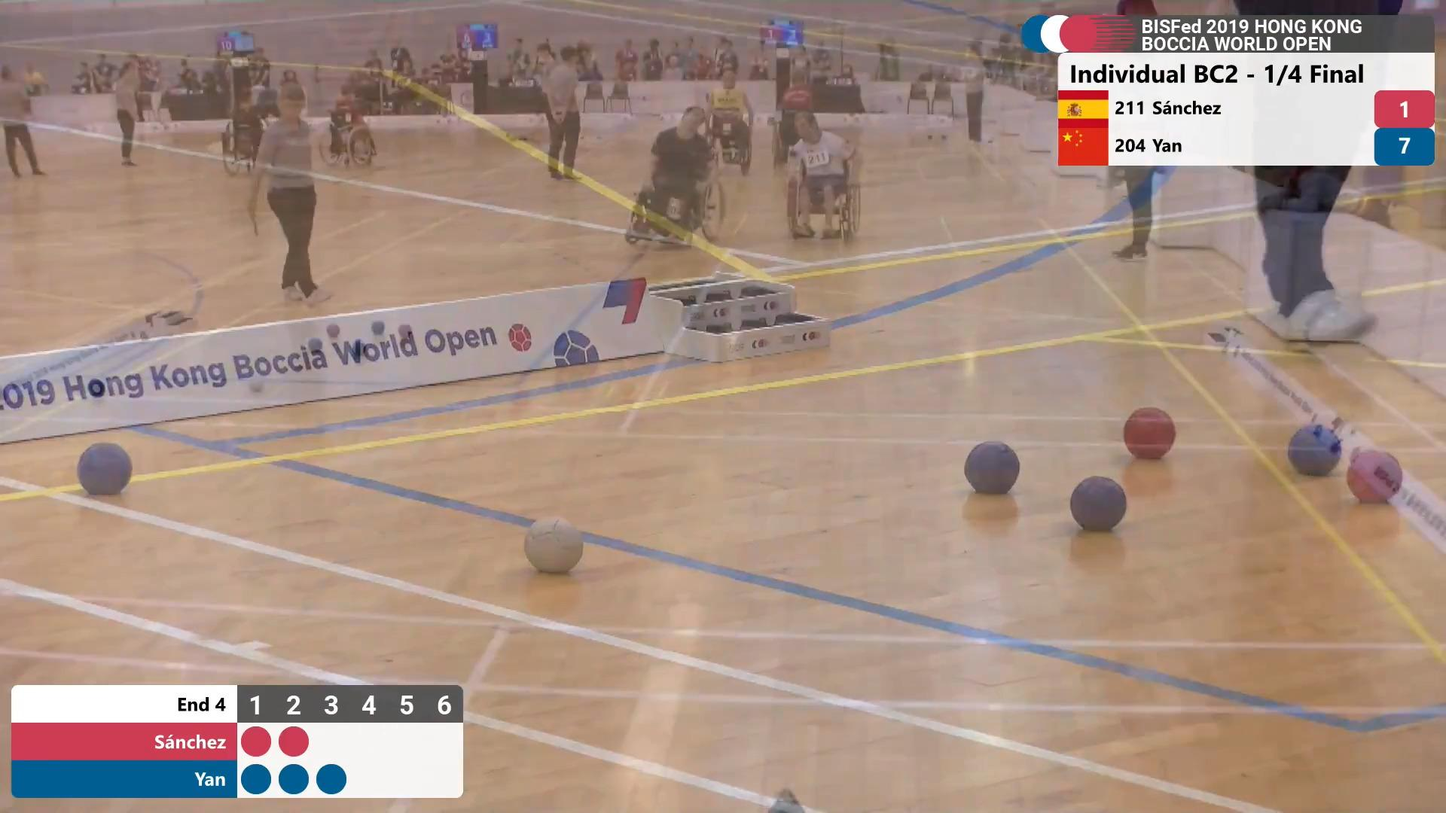blue_ball: (1066, 472, 1129, 539), (73, 439, 136, 501), (961, 437, 1022, 498), (1285, 423, 1343, 480)
red_ball: (1342, 448, 1405, 508), (1120, 403, 1178, 465)
white_ball: (522, 514, 587, 577)
